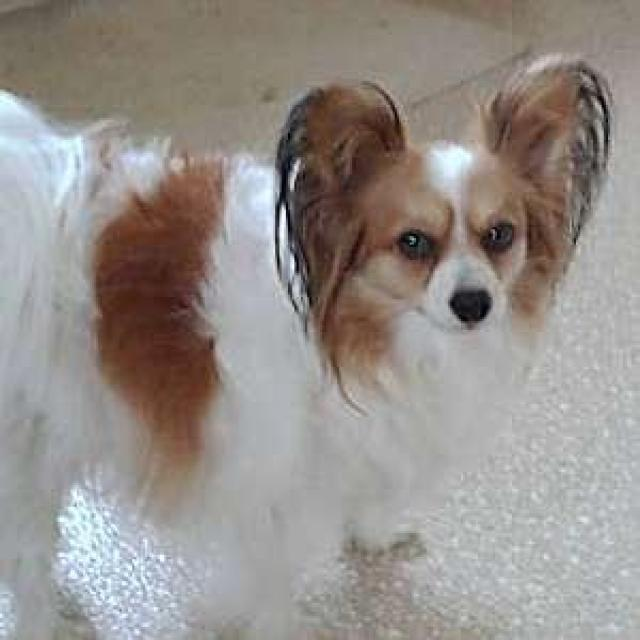papillon: (0, 52, 614, 635)
